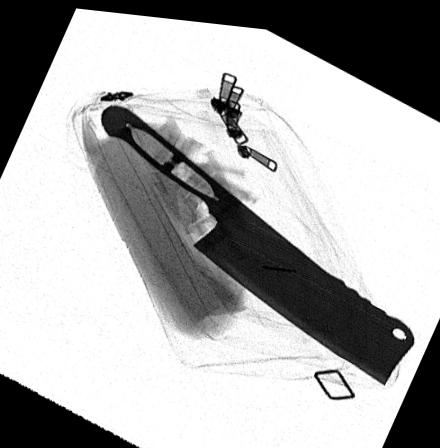Knife: (99, 102, 416, 378)
